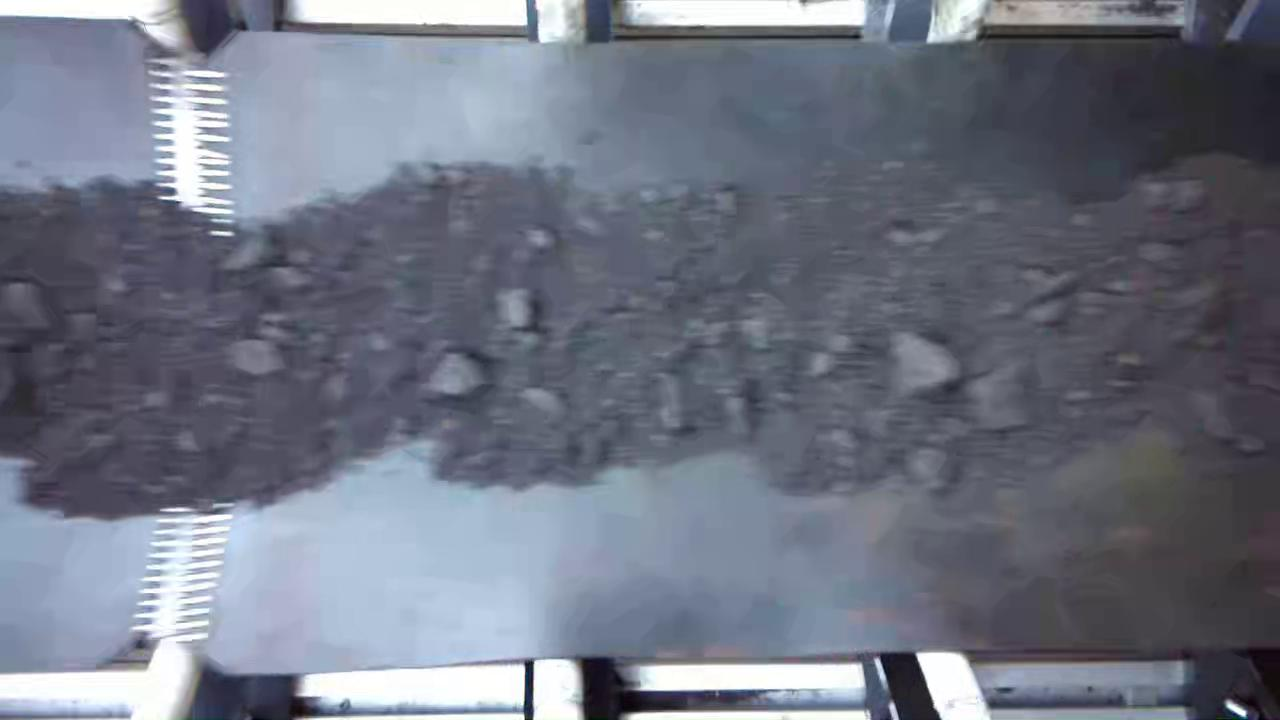conveyor: (7, 57, 1273, 637)
